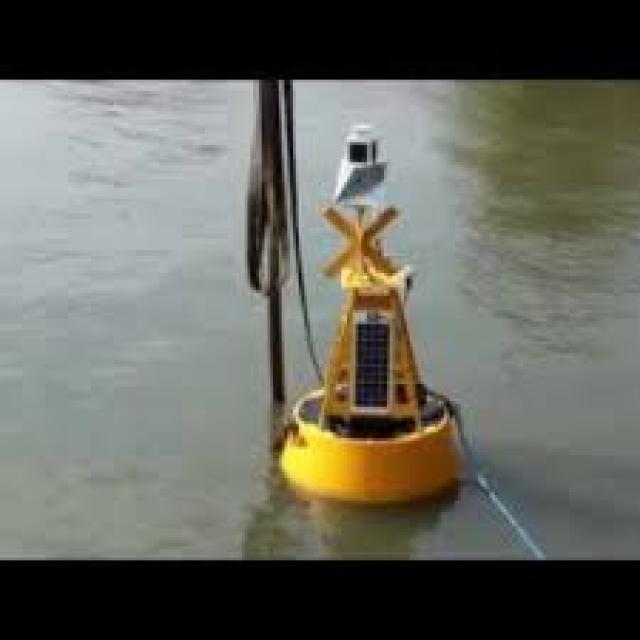buoy: (269, 98, 471, 515)
